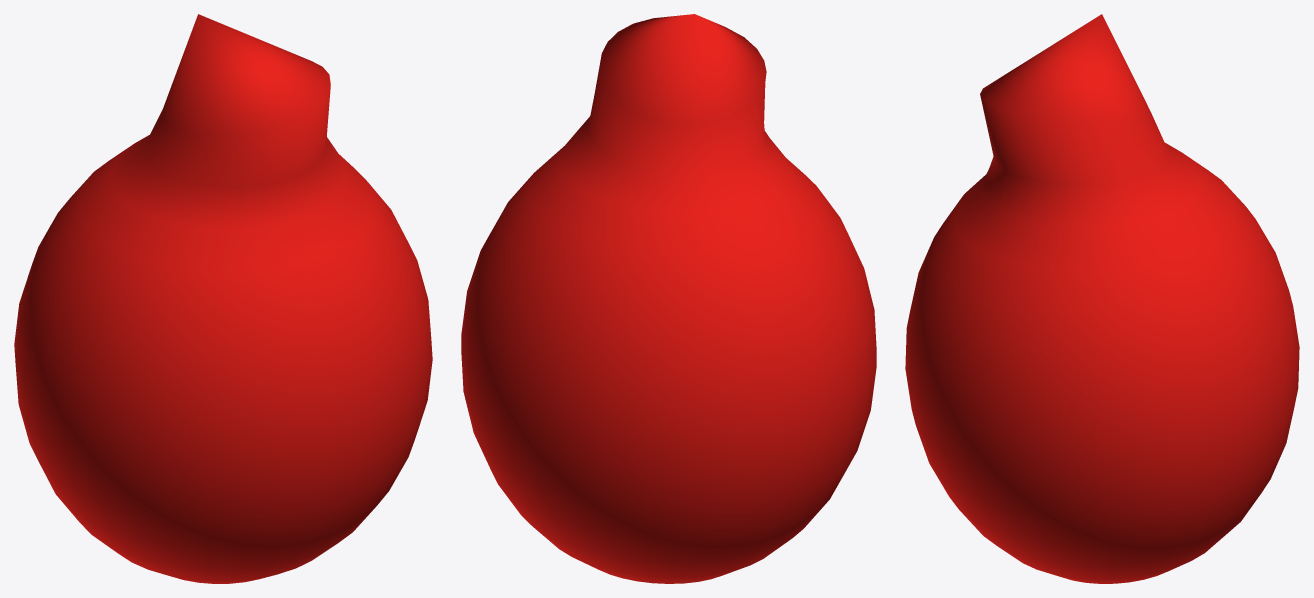
The model's file is PikminSeedNoLeaf.fbx.
3 views of the same model, side by side, from view 1: azimuth 30°, elevation 25°; view 2: azimuth 150°, elevation 25°; view 3: azimuth 270°, elevation 25° (orthographic). The views are drawn at different scales.
Parts seen in each view (by area): view 1: SeedBase; view 2: SeedBase; view 3: SeedBase.
Part boxes in pixels (box(x1,y1,x2,y2)): SeedBase: box(14, 14, 432, 583); SeedBase: box(461, 14, 876, 583); SeedBase: box(905, 14, 1299, 583).
Size of the model in its own units: 51.12 by 74.83 by 49.45.
